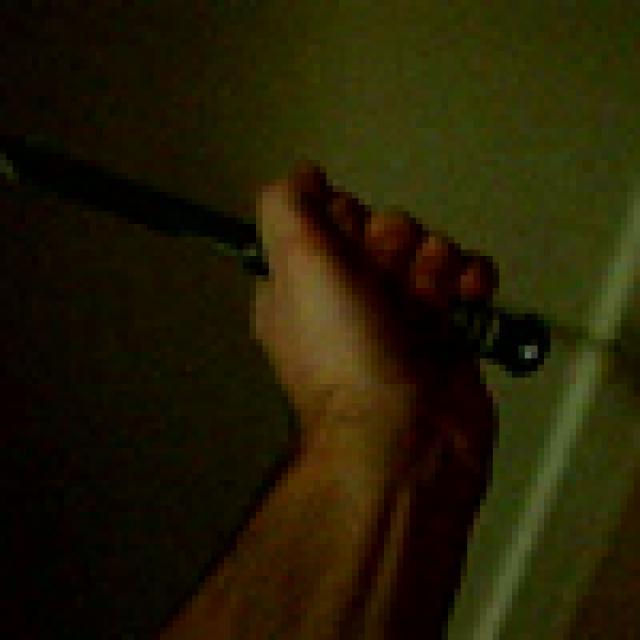knife: (26, 135, 551, 378)
